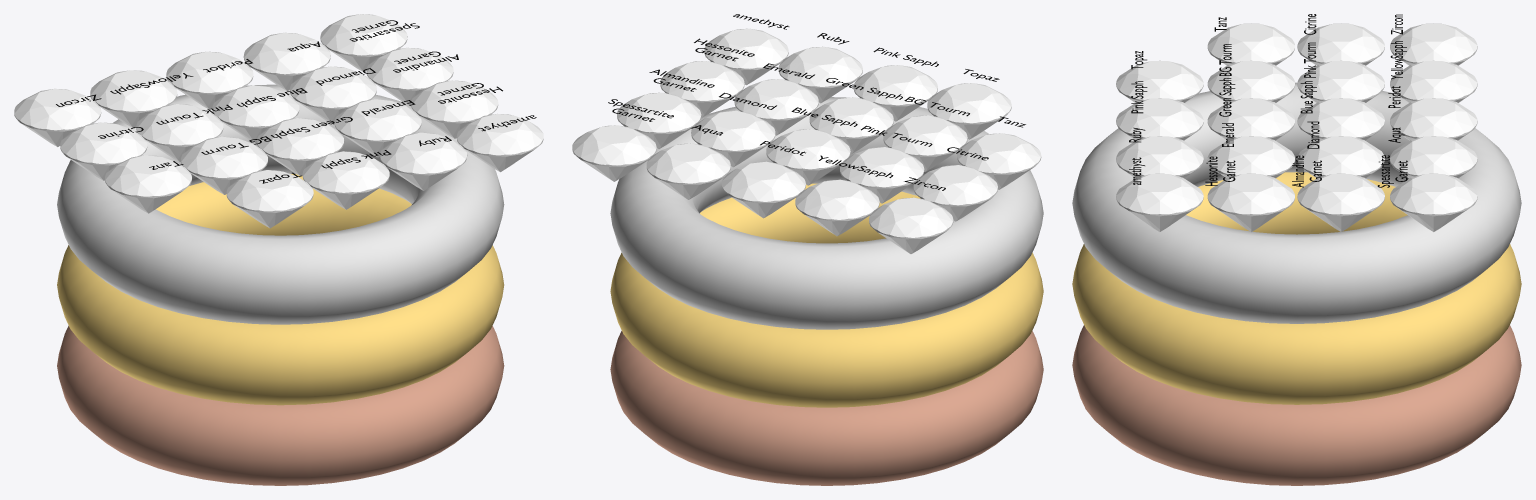
File: materialdemo_webgi.glb
3 renders of one model, left to right at view 1: azimuth 30°, elevation 25°; view 2: azimuth 150°, elevation 25°; view 3: azimuth 270°, elevation 25°, orthographic. The views are drawn at different scales.
Parts seen in each view (by area): view 1: Torus001, Torus, Torus002, diamonds_for_3d_model010, diamonds_for_3d_model013, diamonds_for_3d_model003, diamonds_for_3d_model018, diamonds_for_3d_model006, diamonds_for_3d_model015, diamonds_for_3d_model002, diamonds_for_3d_model007, diamonds_for_3d_model019 (+10 smaller); view 2: Torus001, Torus, Torus002, diamonds_for_3d_model002, diamonds_for_3d_model007, diamonds_for_3d_model015, diamonds_for_3d_model019, diamonds_for_3d_model011, diamonds_for_3d_model016, diamonds_for_3d_model001, diamonds_for_3d_model008, diamonds_for_3d_model010 (+10 smaller); view 3: Torus001, Torus, Torus002, diamonds_for_3d_model019, diamonds_for_3d_model018, diamonds_for_3d_model017, diamonds_for_3d_model020, diamonds_for_3d_model007, diamonds_for_3d_model008, diamonds_for_3d_model006, diamonds_for_3d_model005, diamonds_for_3d_model002 (+10 smaller).
Part boxes in pixels (x1,y1,x2,y2): Torus001: (57,84,504,324); Torus: (57,174,504,405); Torus002: (57,325,504,485); diamonds_for_3d_model010: (226,170,313,228); diamonds_for_3d_model013: (105,155,191,213); diamonds_for_3d_model003: (380,132,467,190); diamonds_for_3d_model018: (456,113,543,172); diamonds_for_3d_model006: (302,151,389,209); diamonds_for_3d_model015: (14,88,101,146); diamonds_for_3d_model002: (243,32,330,90); diamonds_for_3d_model007: (166,51,253,109); diamonds_for_3d_model019: (320,14,407,71); Torus001: (610,97,1043,329); Torus: (610,183,1043,407); Torus002: (610,331,1043,485); diamonds_for_3d_model002: (646,143,730,199); diamonds_for_3d_model007: (721,161,805,218); diamonds_for_3d_model015: (869,197,953,253); diamonds_for_3d_model019: (572,125,656,181); diamonds_for_3d_model011: (795,179,879,236); diamonds_for_3d_model016: (913,165,997,221); diamonds_for_3d_model001: (691,110,775,167); diamonds_for_3d_model008: (766,129,850,185); diamonds_for_3d_model010: (927,83,1011,139); Torus001: (1072,82,1521,323); Torus: (1072,172,1521,404); Torus002: (1072,325,1521,485); diamonds_for_3d_model019: (1390,173,1477,231); diamonds_for_3d_model018: (1116,173,1203,231); diamonds_for_3d_model017: (1207,173,1294,231); diamonds_for_3d_model020: (1297,173,1384,231); diamonds_for_3d_model007: (1390,98,1477,140); diamonds_for_3d_model008: (1297,98,1384,140); diamonds_for_3d_model006: (1116,98,1203,140); diamonds_for_3d_model005: (1207,98,1294,140); diamonds_for_3d_model002: (1390,136,1477,178).
Bounding box in the file's own units: 2.5 × 1.88 × 2.5.
